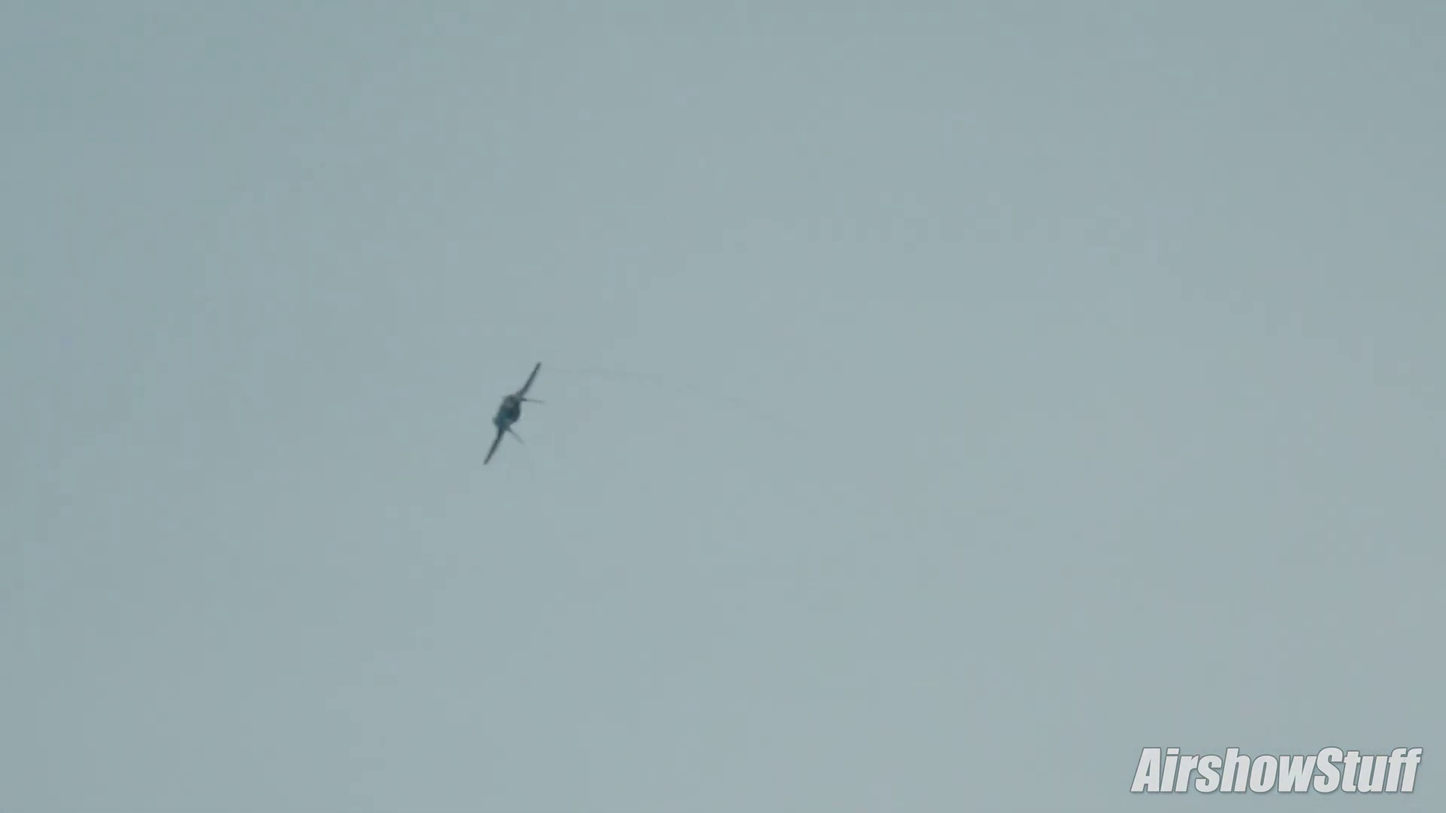F35: (476, 356, 557, 479)
